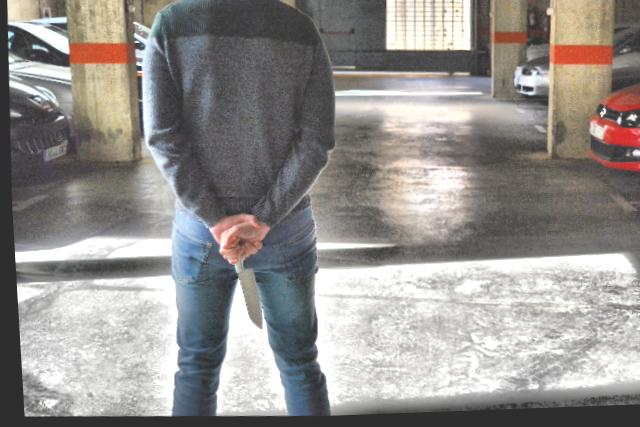knife: (224, 253, 264, 334)
